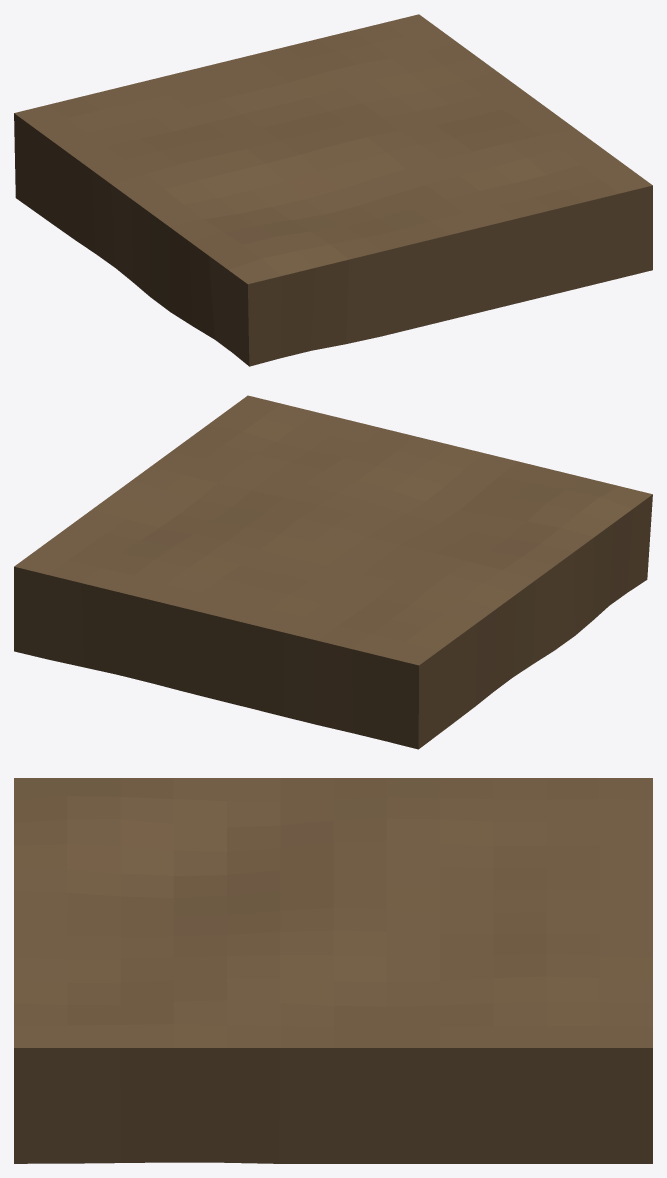
File: dirt_02.glb
The picture shows the model from 3 angles, top to bottom: view 1: azimuth 30°, elevation 25°; view 2: azimuth 150°, elevation 25°; view 3: azimuth 270°, elevation 25°; orthographic projection. The views are drawn at different scales.
Parts seen in each view (by area): view 1: Grid; view 2: Grid; view 3: Grid.
Boxes of the visible parts, x1,y1,x2,y2 form: Grid: [14, 14, 652, 366]; Grid: [14, 395, 652, 749]; Grid: [14, 778, 652, 1163].
Bounding box in the file's own units: 1 × 0.2091 × 1.
